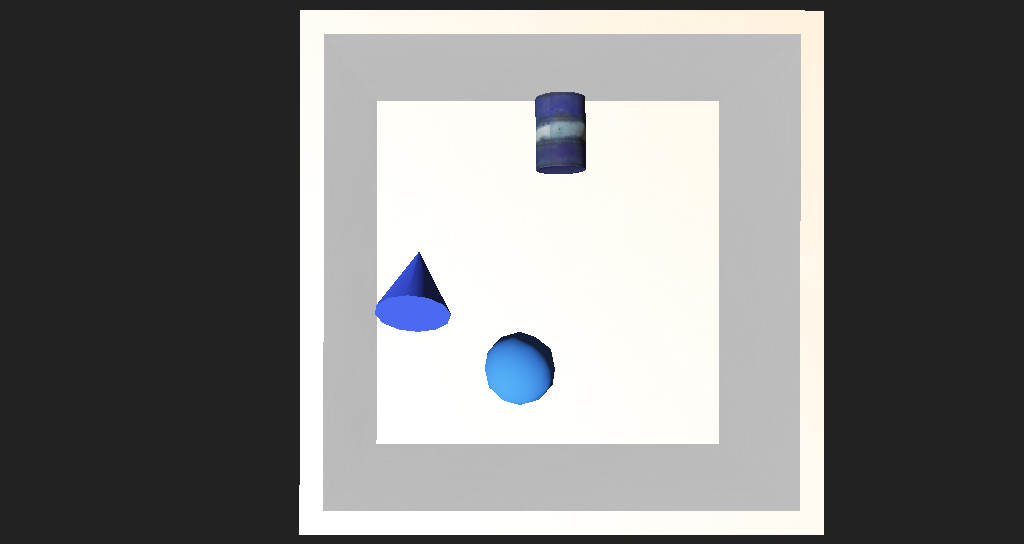cone: (495, 157, 542, 205)
cylinder: (354, 246, 428, 308)
sphere: (445, 308, 512, 351)
